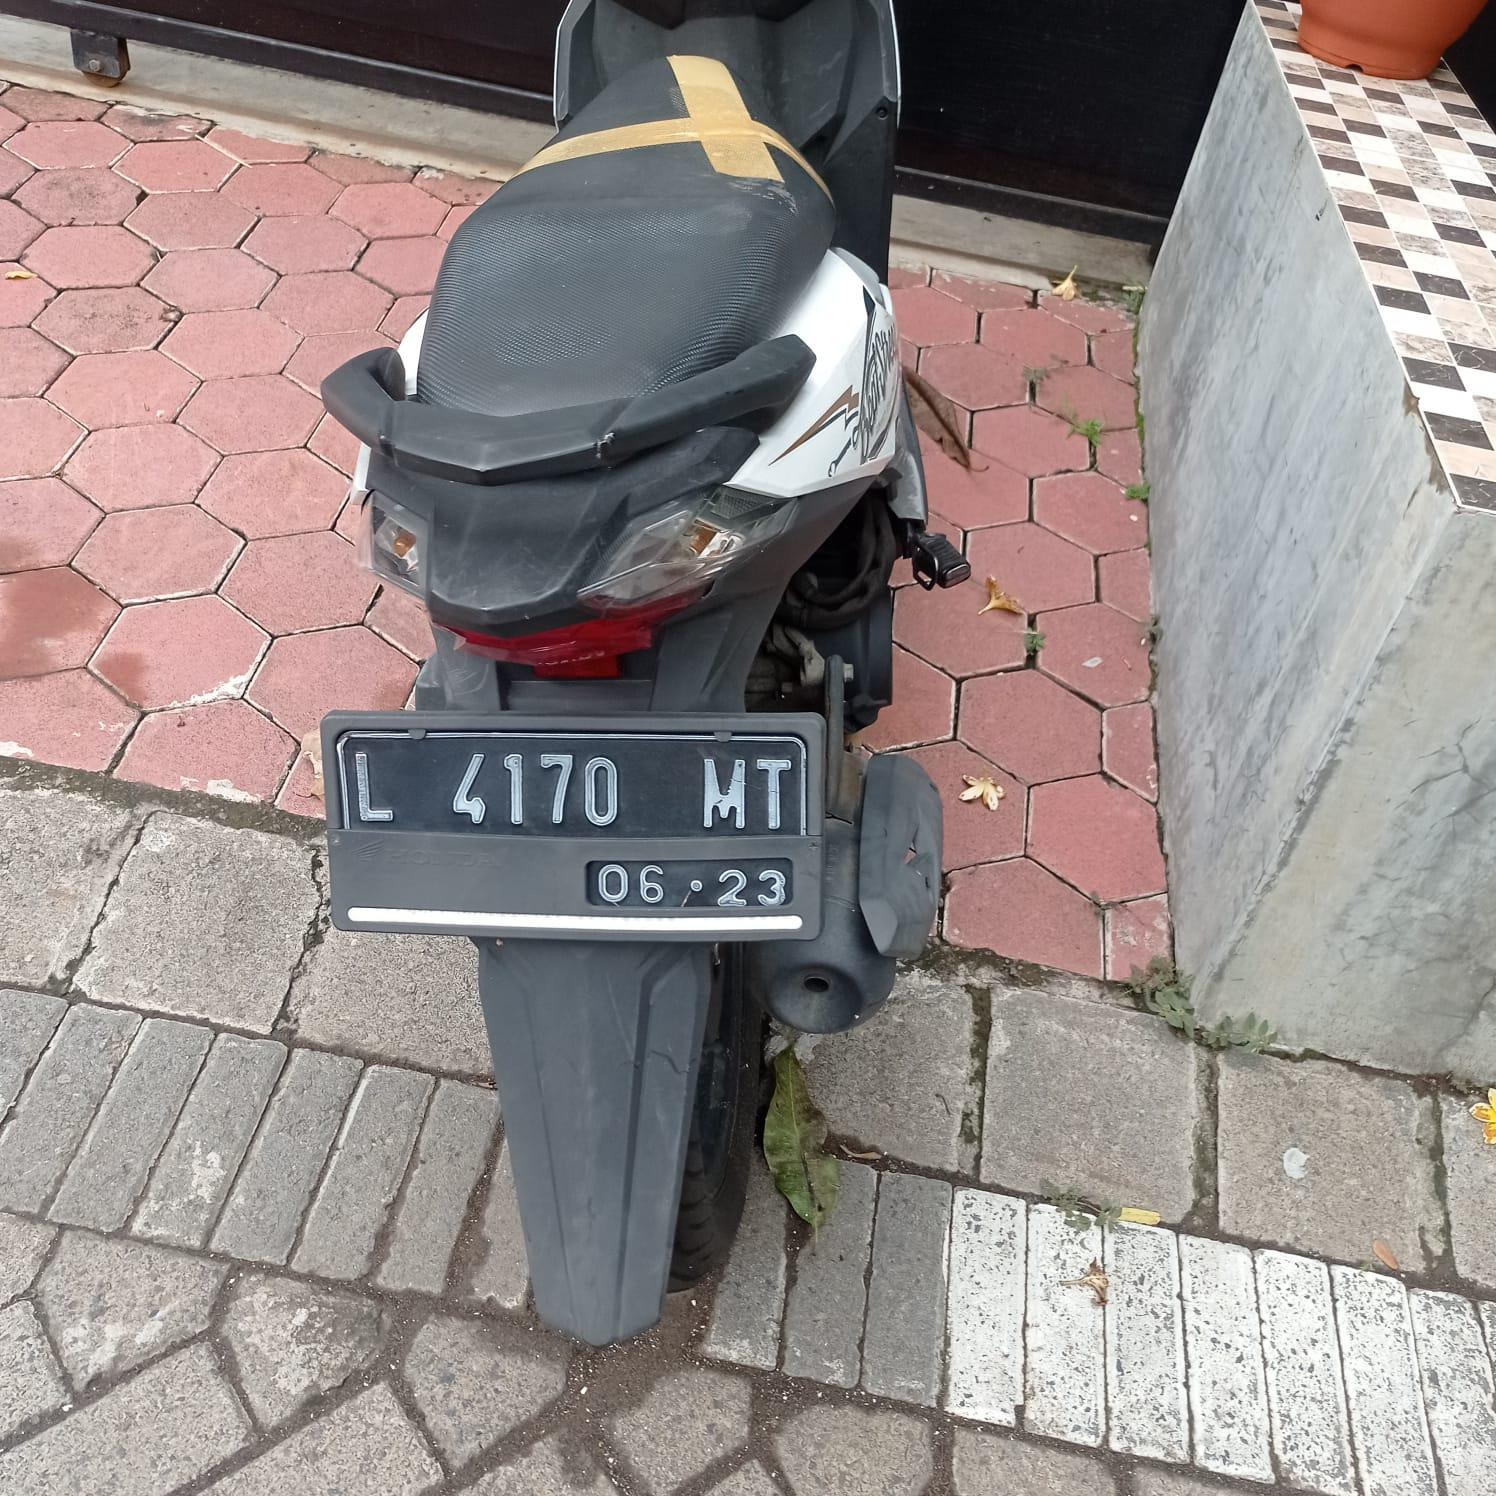plat: (325, 712, 827, 944)
